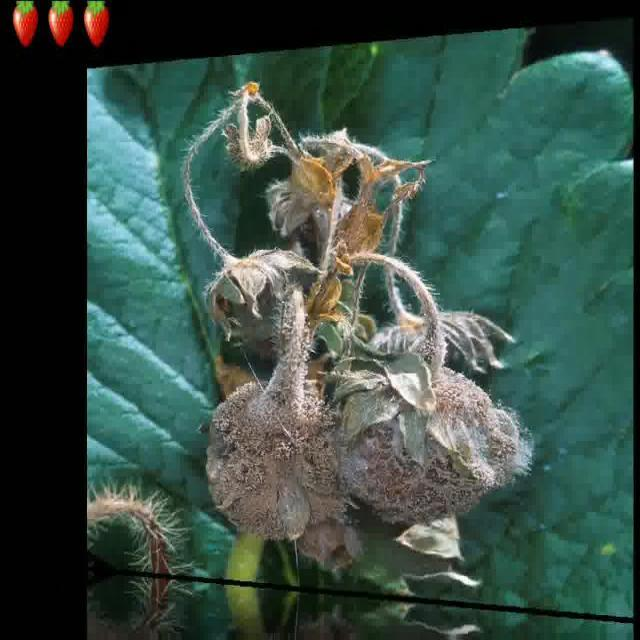Moho gris: (353, 333, 525, 551), (204, 327, 343, 567)
